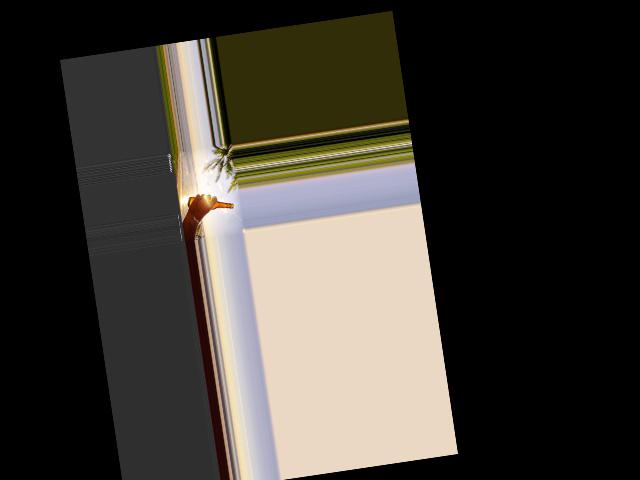beer: (186, 191, 233, 215)
